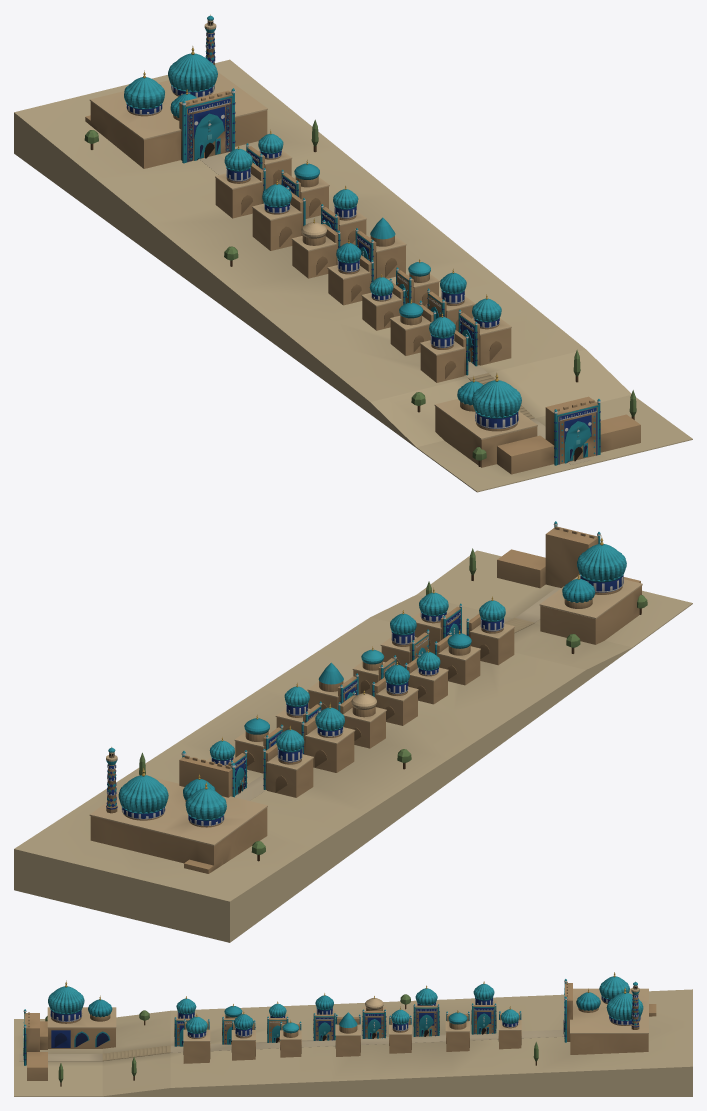
The model's file is shah-i-zinda.glb.
3 views of the same model, one above another, from view 1: azimuth 30°, elevation 25°; view 2: azimuth 150°, elevation 25°; view 3: azimuth 270°, elevation 25° (orthographic). The views are drawn at different scales.
Parts seen in each view (by area): view 1: p0_slope, p1_tombs, p2_lower gateway; view 2: p0_slope, p1_tombs, p2_lower gateway; view 3: p0_slope, p1_tombs, p2_lower gateway.
Boxes of the visible parts, bbox=[...] form: p0_slope: bbox=[14, 59, 692, 492]; p1_tombs: bbox=[85, 14, 511, 382]; p2_lower gateway: bbox=[434, 373, 640, 474]; p0_slope: bbox=[14, 548, 692, 942]; p1_tombs: bbox=[89, 587, 514, 873]; p2_lower gateway: bbox=[497, 521, 642, 644]; p0_slope: bbox=[14, 989, 692, 1096]; p1_tombs: bbox=[174, 972, 656, 1063]; p2_lower gateway: bbox=[23, 980, 116, 1080].
Size of the model in its own units: 70 by 40.2 by 260.
